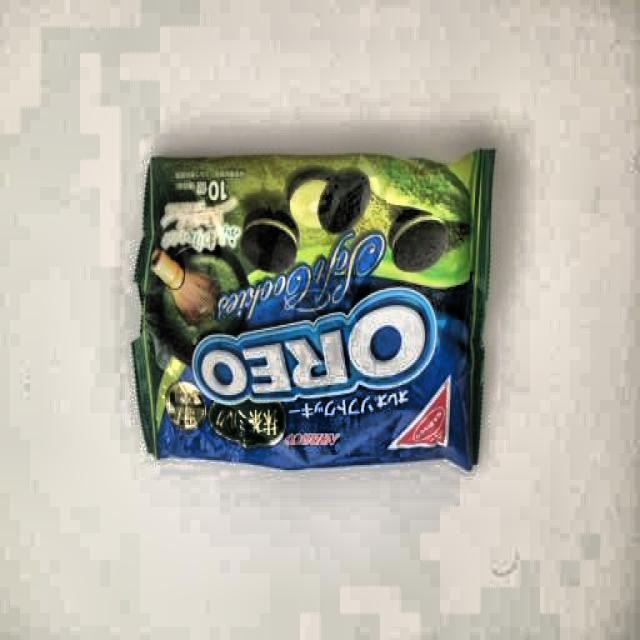plastic: (132, 136, 482, 480)
